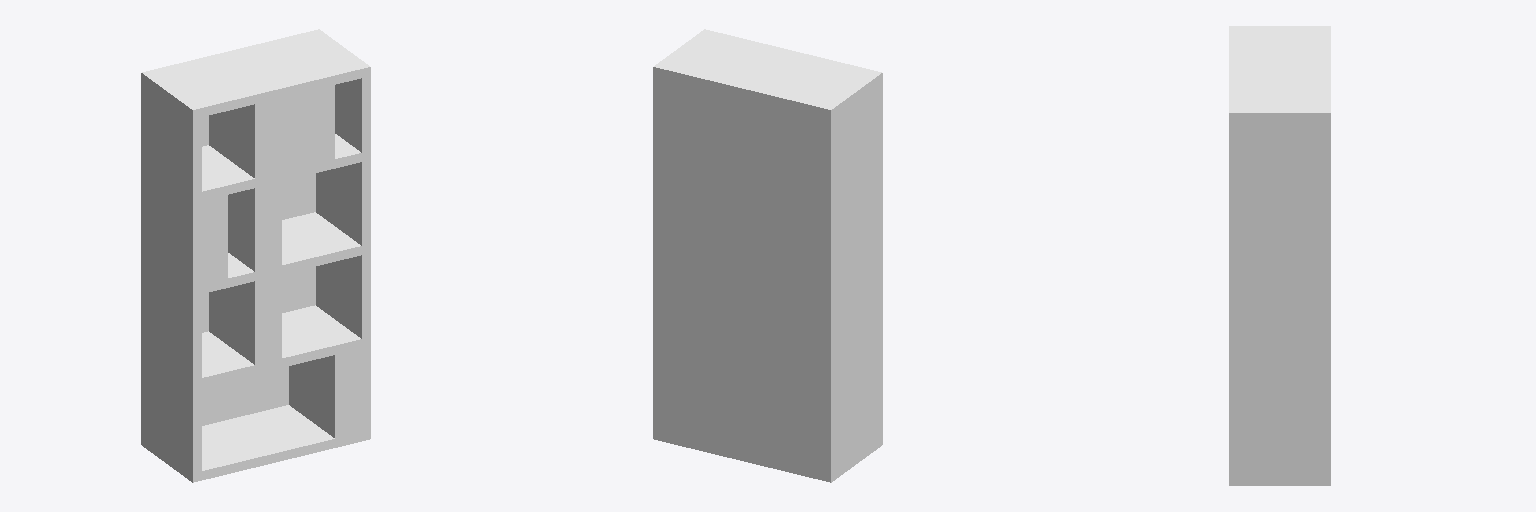
Rendered from bookcase3.obj.
3 renders of one model, left to right at view 1: azimuth 30°, elevation 25°; view 2: azimuth 150°, elevation 25°; view 3: azimuth 270°, elevation 25°, orthographic.
Visible parts, largest first — view 1: bookcase3; view 2: bookcase3; view 3: bookcase3.
Part boxes in pixels (x1,y1,x2,y2): bookcase3: (141,29,370,482); bookcase3: (653,29,882,482); bookcase3: (1229,26,1330,485).
Bounding box in the file's own units: 20 × 40 × 10.